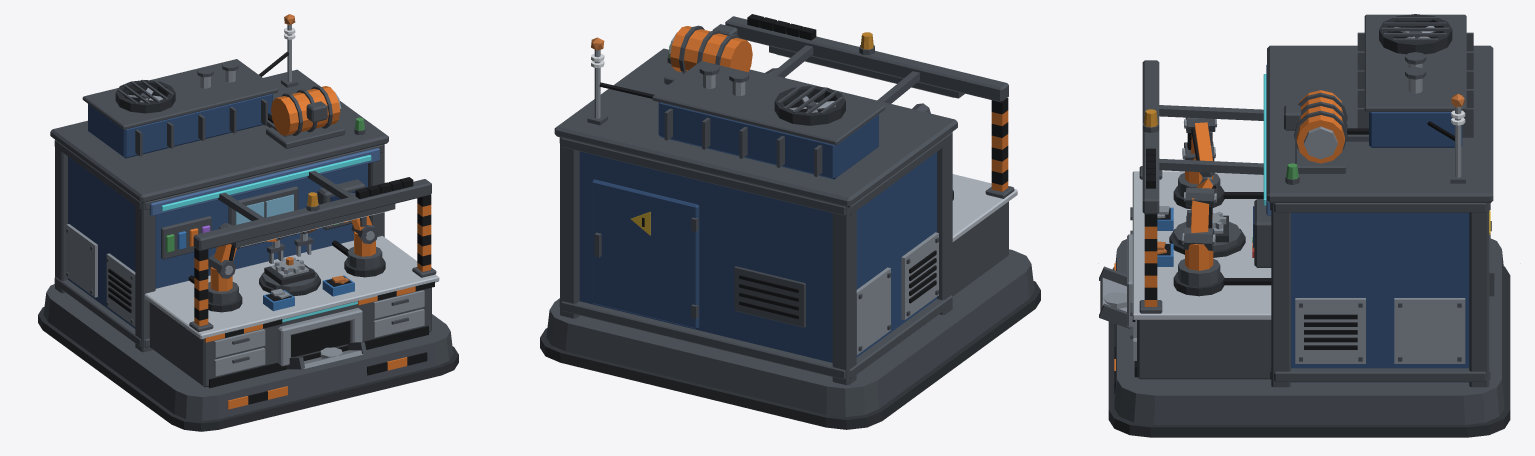
Rendered from assembleur_avance.glb.
The picture shows the model from 3 angles, left to right: view 1: azimuth 30°, elevation 25°; view 2: azimuth 150°, elevation 25°; view 3: azimuth 270°, elevation 25°; orthographic projection. The views are drawn at different scales.
Visible parts, largest first — view 1: pieces_acier_sombre.002, socle.002, caisson_toit.002, caisson.002, pieces_acier.002, etabli_plateau.002, pieces_noir.002, etabli.002, socle_plinthe.002, transformateur_toit.002, transformateur.002, pieces_jaune.002 (+18 smaller); view 2: pieces_acier_sombre.002, caisson.002, socle.002, caisson_toit.002, armoire_porte.002, socle_plinthe.002, transformateur_toit.002, transformateur.002, pieces_acier.002, pieces_noir.002, etabli.002, moteur.002 (+3 smaller); view 3: pieces_acier_sombre.002, socle.002, caisson_toit.002, caisson.002, pieces_acier.002, etabli_plateau.002, etabli.002, socle_plinthe.002, transformateur_toit.002, pieces_noir.002, transformateur.002, bras2_acier_sombre.002 (+13 smaller).
Part boxes in pixels (x1,y1,x2,y2): pieces_acier_sombre.002: (54,61,436,369); socle.002: (43,284,453,421); caisson_toit.002: (50,69,388,203); caisson.002: (68,156,367,328); pieces_acier.002: (66,24,424,376); etabli_plateau.002: (144,236,439,339); pieces_noir.002: (108,52,434,404); etabli.002: (149,287,431,387); socle_plinthe.002: (38,306,458,431); transformateur_toit.002: (82,59,278,129); transformateur.002: (88,93,272,158); pieces_jaune.002: (194,203,431,409); pieces_acier_sombre.002: (559,16,1014,385); caisson.002: (579,151,936,362); socle.002: (546,249,1034,417); caisson_toit.002: (554,48,957,207); armoire_porte.002: (592,179,699,328); socle_plinthe.002: (540,281,1040,429); transformateur_toit.002: (652,61,885,145); transformateur.002: (658,102,878,179); pieces_acier.002: (594,50,938,354); pieces_noir.002: (599,14,1008,319); etabli.002: (952,201,1008,295); moteur.002: (670,26,752,72); pieces_acier_sombre.002: (1099,17,1494,387); socle.002: (1114,238,1504,424); caisson_toit.002: (1267,45,1493,202); caisson.002: (1291,212,1469,382); pieces_acier.002: (1100,63,1465,363); etabli_plateau.002: (1132,171,1271,319); etabli.002: (1137,320,1271,379); socle_plinthe.002: (1108,266,1510,437); transformateur_toit.002: (1364,14,1466,111); pieces_noir.002: (1114,26,1491,393); transformateur.002: (1369,112,1462,147); bras2_acier_sombre.002: (1178,178,1220,286).
Size of the model in its own units: 2 by 1.67 by 2.
